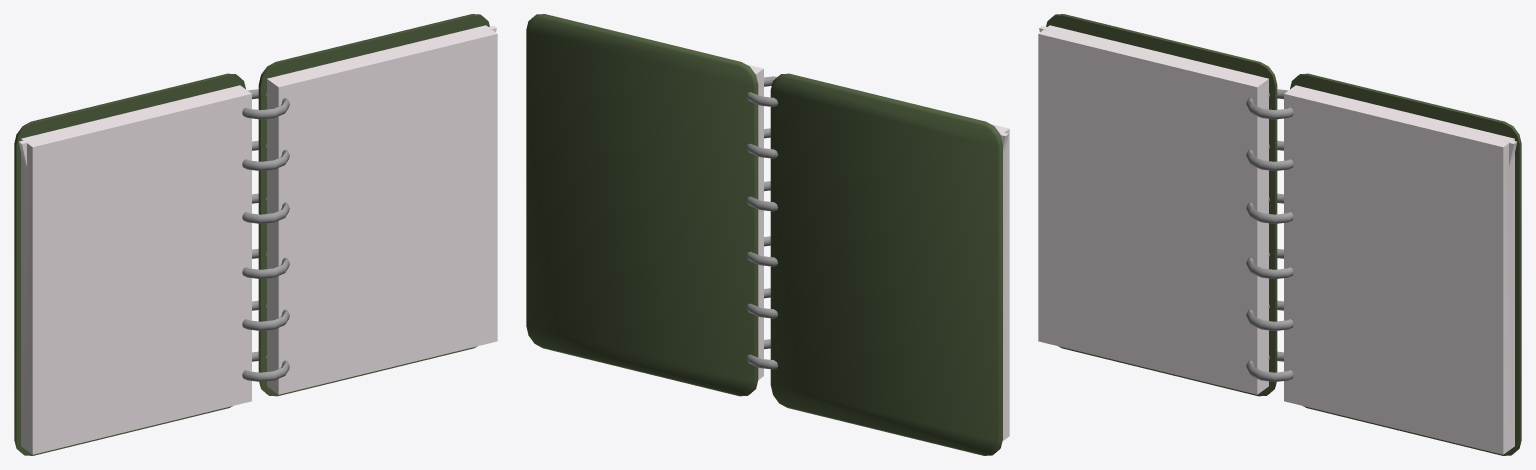
The model's file is Notebook.fbx.
3 views of the same model, side by side, from view 1: azimuth 30°, elevation 25°; view 2: azimuth 150°, elevation 25°; view 3: azimuth 330°, elevation 25° (orthographic).
Parts seen in each view (by area): view 1: Notebook; view 2: Notebook; view 3: Notebook.
Boxes of the visible parts, bbox=[...] form: Notebook: bbox=[14, 14, 497, 455]; Notebook: bbox=[526, 14, 1009, 455]; Notebook: bbox=[1038, 14, 1521, 455].
Bounding box in the file's own units: 68.21 × 45.68 × 7.22.
1 material, 1 textured.
